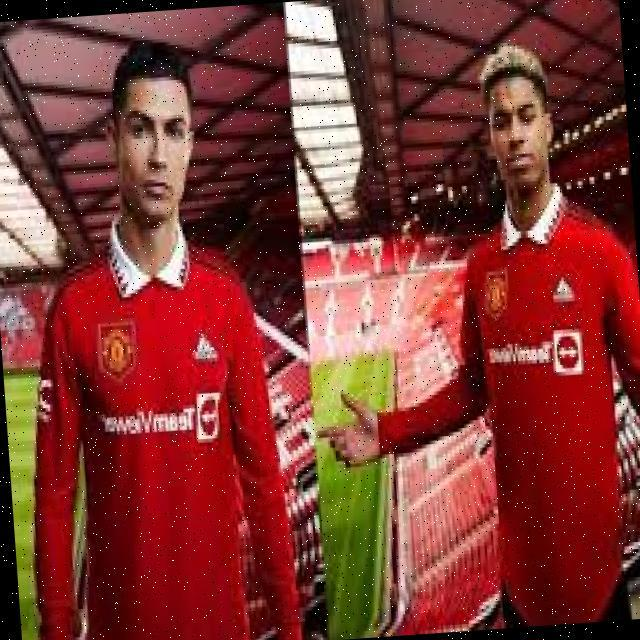Adidas: (189, 327, 221, 369), (550, 272, 578, 306)
